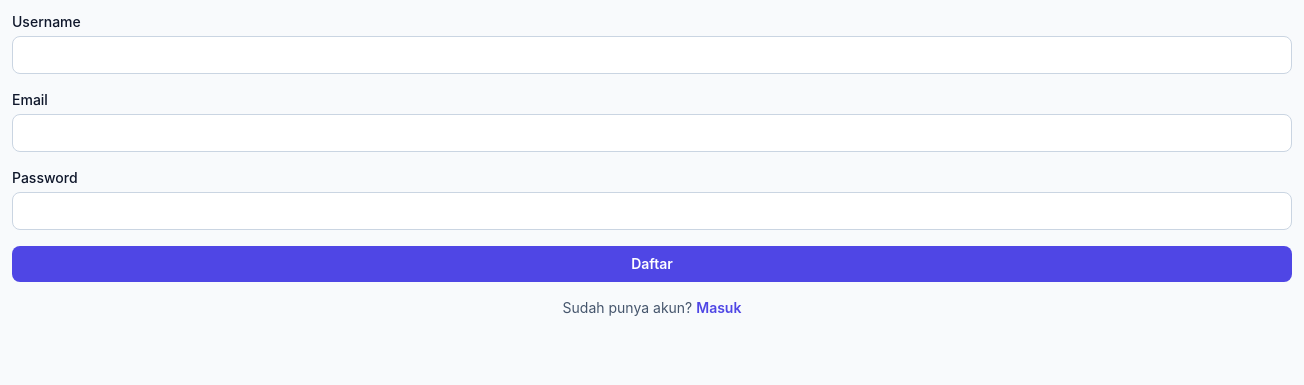
Test: AuthForm › register gagal (username terpakai) tidak melanjutkan ke login
Type "budi" into the field with id "register-username" at (652,55), box [12,36,1292,74]
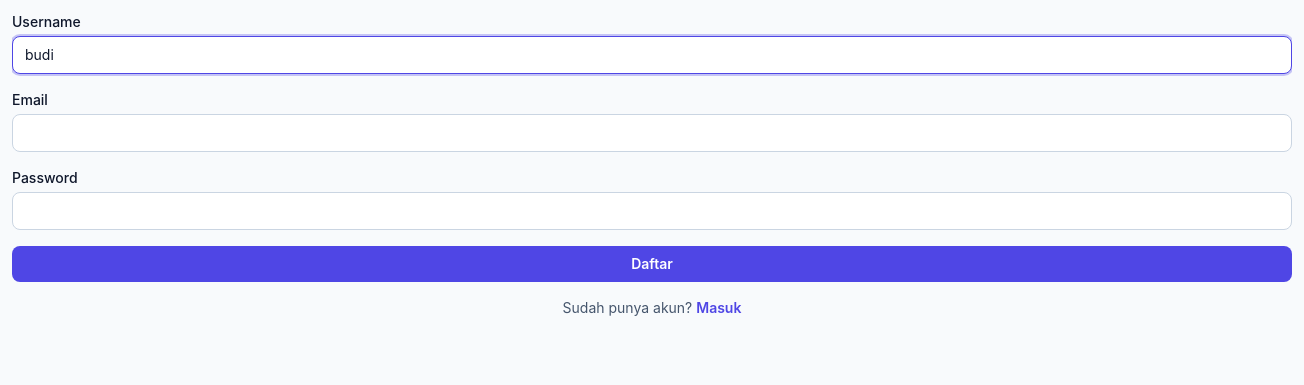
Type "budi@mail.id" into the field labelled "Email" at (652,133), box [12,114,1292,152]
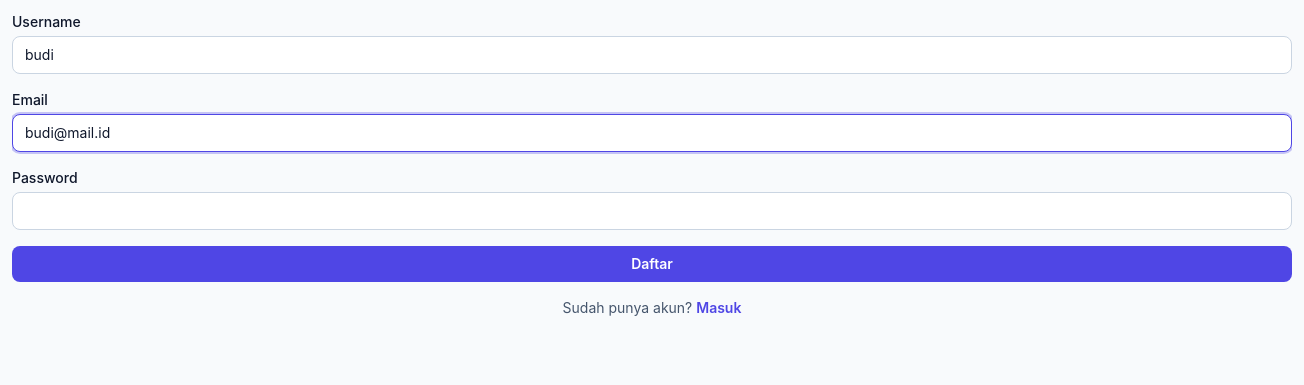
Type "rahasia1" into the password field with id "register-password" at (652,211), box [12,192,1292,230]
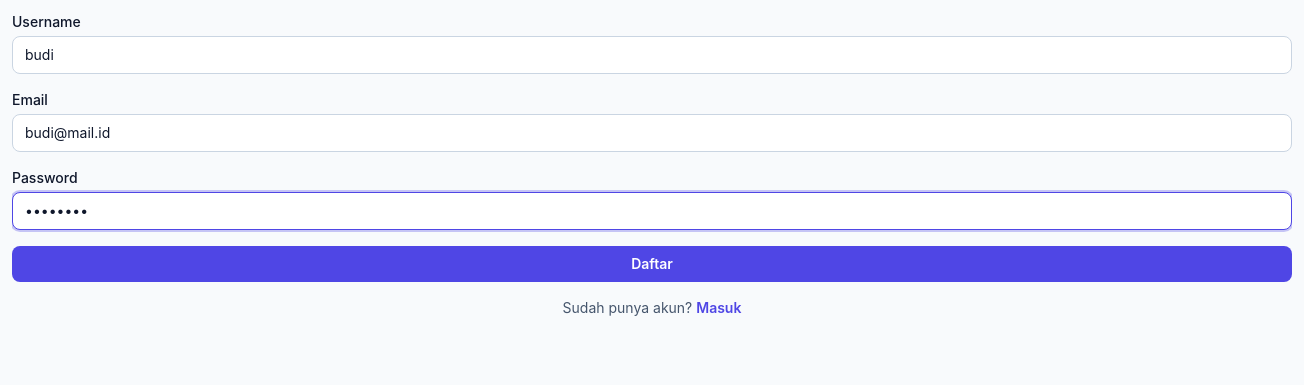
Click the button with id "register-submit" at (652,264), box [12,246,1292,282]
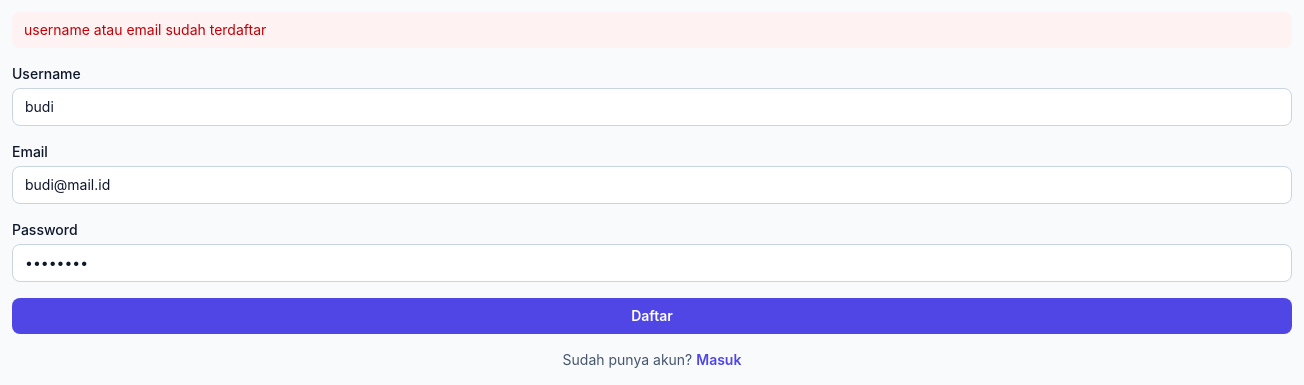
Result: the message shows "sudah terdaftar" at [24,21,266,38]
